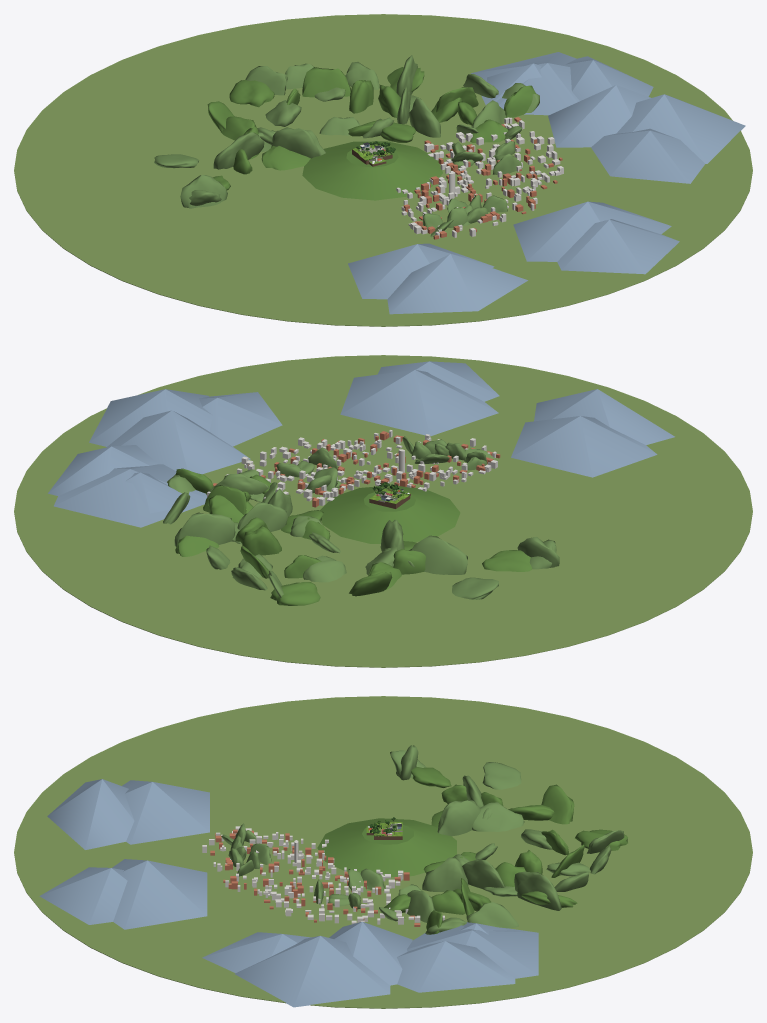
The model's file is venue.glb.
The picture shows the model from 3 angles, top to bottom: view 1: azimuth 30°, elevation 25°; view 2: azimuth 150°, elevation 25°; view 3: azimuth 270°, elevation 25°; orthographic projection.
Parts seen in each view (by area): view 1: valley_floor, mountain (×10), far_hill (×19), hillside; view 2: valley_floor, mountain (×10), far_hill (×16), hillside; view 3: valley_floor, mountain (×9), far_hill (×12), hillside.
Part boxes in pixels (x1=…): valley_floor: x1=14, y1=14, x2=752, y2=326; mountain (×10): x1=348, y1=52, x2=745, y2=314; far_hill (×19): x1=154, y1=62, x2=535, y2=208; hillside: x1=302, y1=141, x2=442, y2=200; valley_floor: x1=14, y1=355, x2=752, y2=667; mountain (×10): x1=48, y1=361, x2=674, y2=527; far_hill (×16): x1=174, y1=474, x2=559, y2=605; hillside: x1=320, y1=485, x2=460, y2=543; valley_floor: x1=14, y1=696, x2=752, y2=1008; mountain (×9): x1=39, y1=779, x2=538, y2=1007; far_hill (×12): x1=405, y1=762, x2=574, y2=928; hillside: x1=317, y1=818, x2=456, y2=877.
Size of the model in its own units: 1400 by 146 by 1400.
